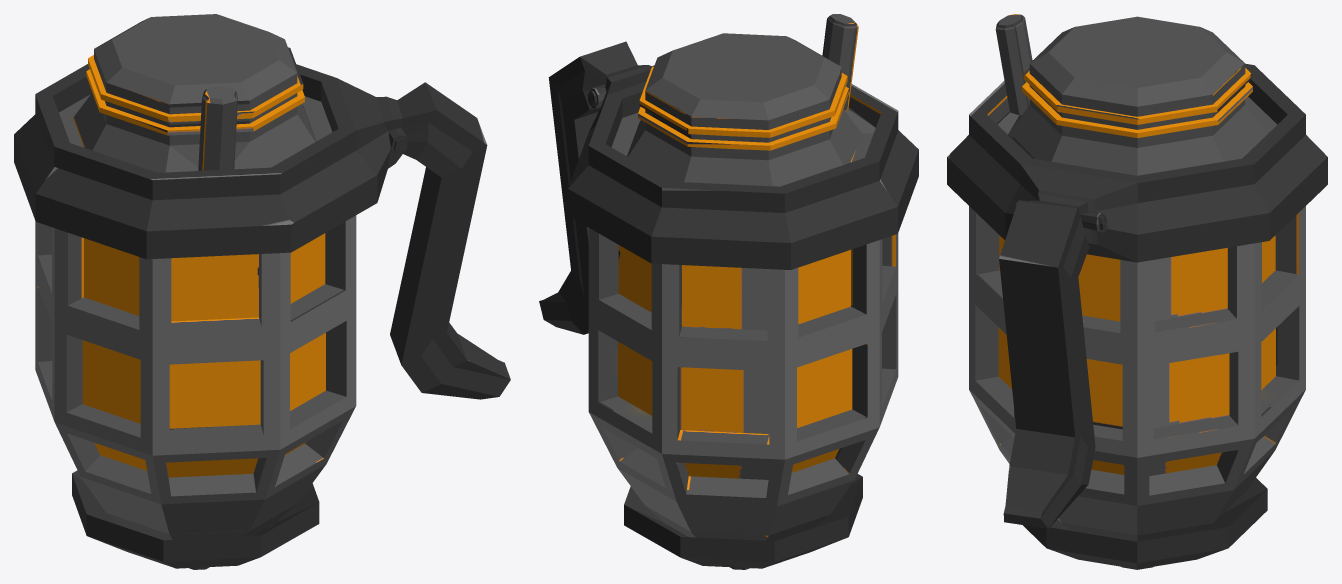
The model's file is grenade.fbx.
3 renders of one model, left to right at view 1: azimuth 30°, elevation 25°; view 2: azimuth 150°, elevation 25°; view 3: azimuth 270°, elevation 25°, orthographic. The views are drawn at different scales.
Visible parts, largest first — view 1: Cube; view 2: Cube; view 3: Cube.
Part boxes in pixels (box(x1,y1,x2,y2)): Cube: box(14, 14, 510, 569); Cube: box(539, 14, 918, 569); Cube: box(947, 14, 1327, 569).
Bounding box in the file's own units: 413 × 502 × 325.
Materials: 1 (1 with a texture image).
